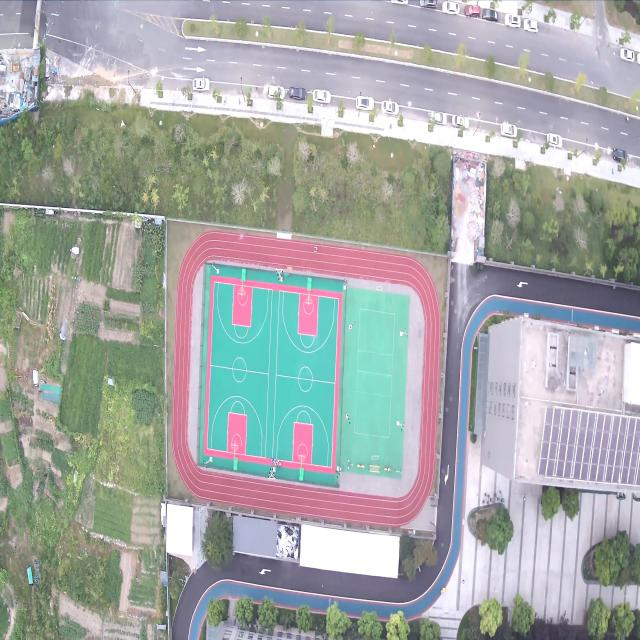drone: (237, 231, 247, 240)
